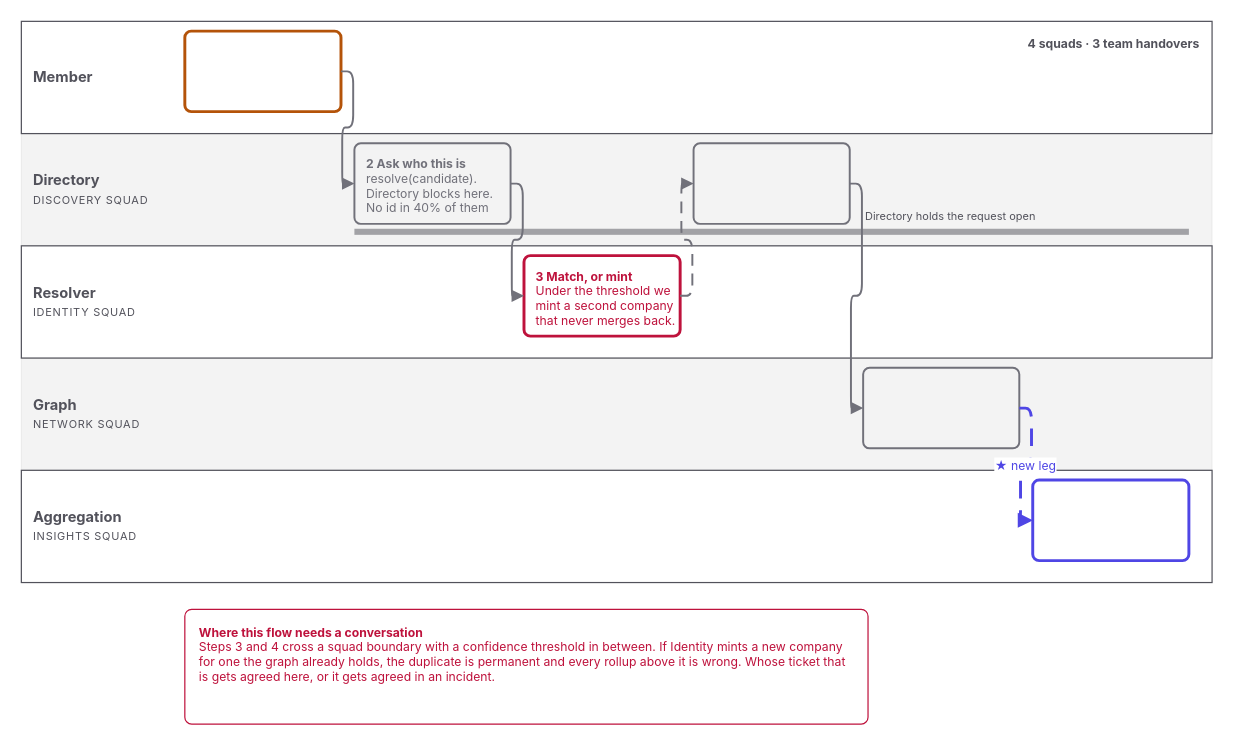
The diagram is 1233 pixels wide and 745 high, and some of its shapes have lost their labels. The centre of each missing label's shape, as x and y in pixels:
"1 Names a partner free text, a country, sometimes a tax id" goes at pixel 262 70.
"4 Link the two linkOrgs(), once identity came back" goes at pixel 771 183.
"5 Edge written 1 edge into 40M nodes. Fan-out is the cost." goes at pixel 941 407.
"★ 6 OrgLinked every rollup above it recomputed. New build." goes at pixel 1110 519.
